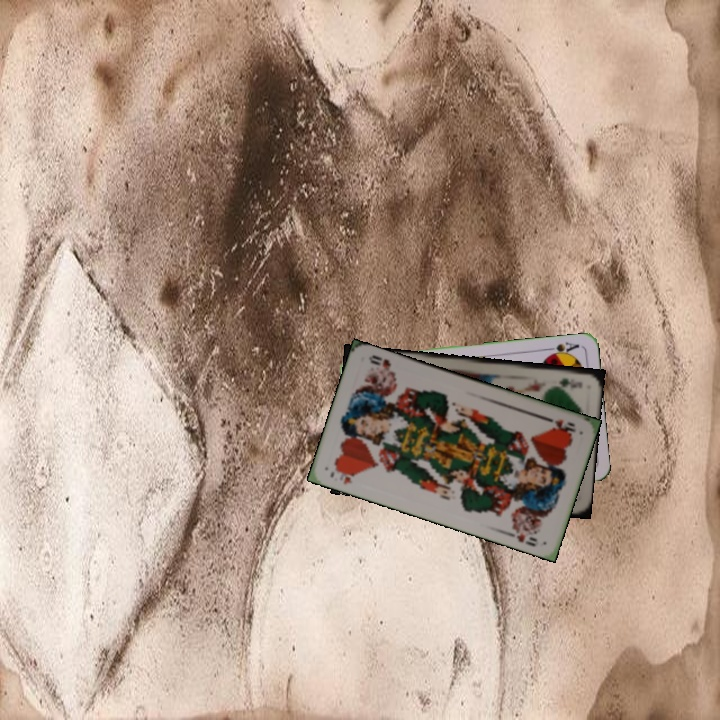GK: (555, 374, 580, 390)
HO: (541, 412, 578, 435), (326, 464, 360, 487)
SA: (542, 338, 582, 359)
